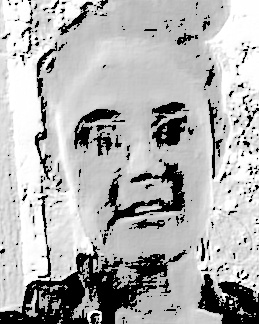nose_M_C: (126, 139, 165, 197)
